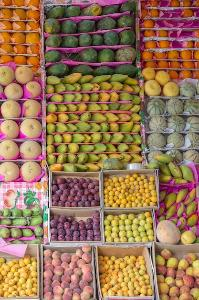apple: (156, 250, 199, 299)
mango: (46, 80, 144, 172), (43, 1, 139, 75), (1, 187, 44, 245), (159, 184, 199, 244)
melon: (1, 69, 44, 182), (148, 82, 199, 163)
orange: (142, 0, 199, 80), (0, 0, 44, 70)
peach: (40, 244, 94, 300)
plum: (48, 207, 100, 243), (50, 173, 100, 207)
